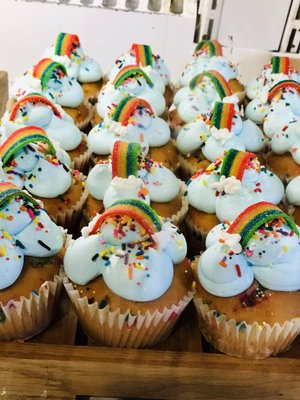sushi: (62, 202, 197, 349), (191, 201, 300, 360), (0, 186, 67, 342)
